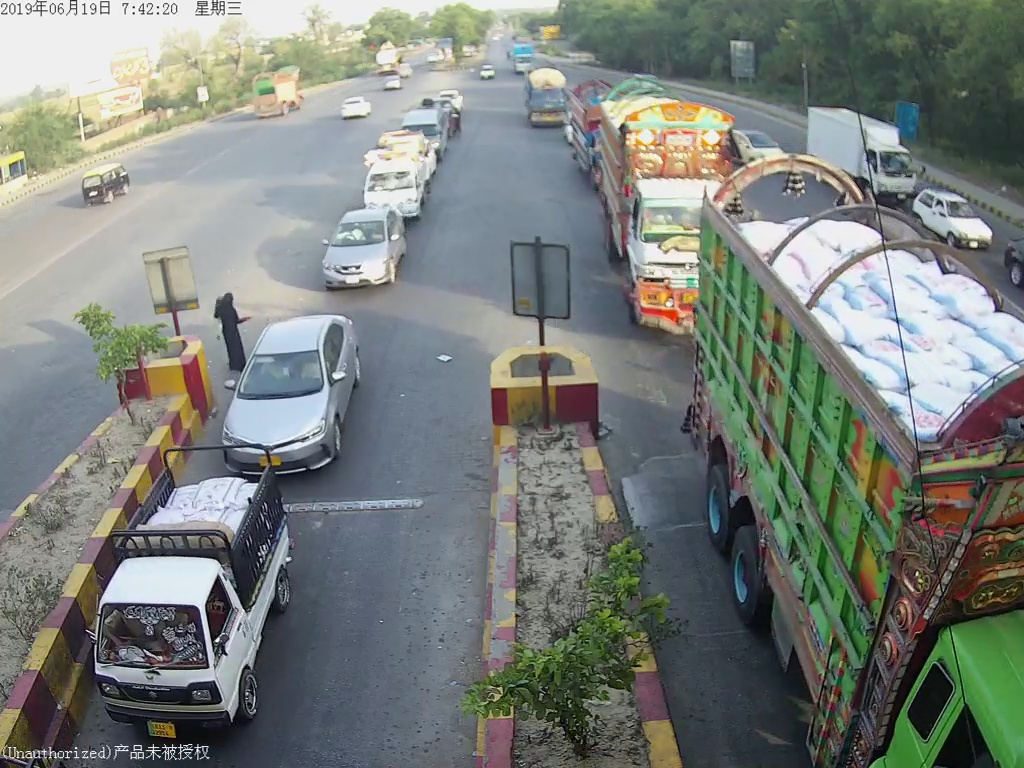Cat-1: (95, 449, 304, 736), (233, 318, 363, 447), (319, 207, 407, 292)
